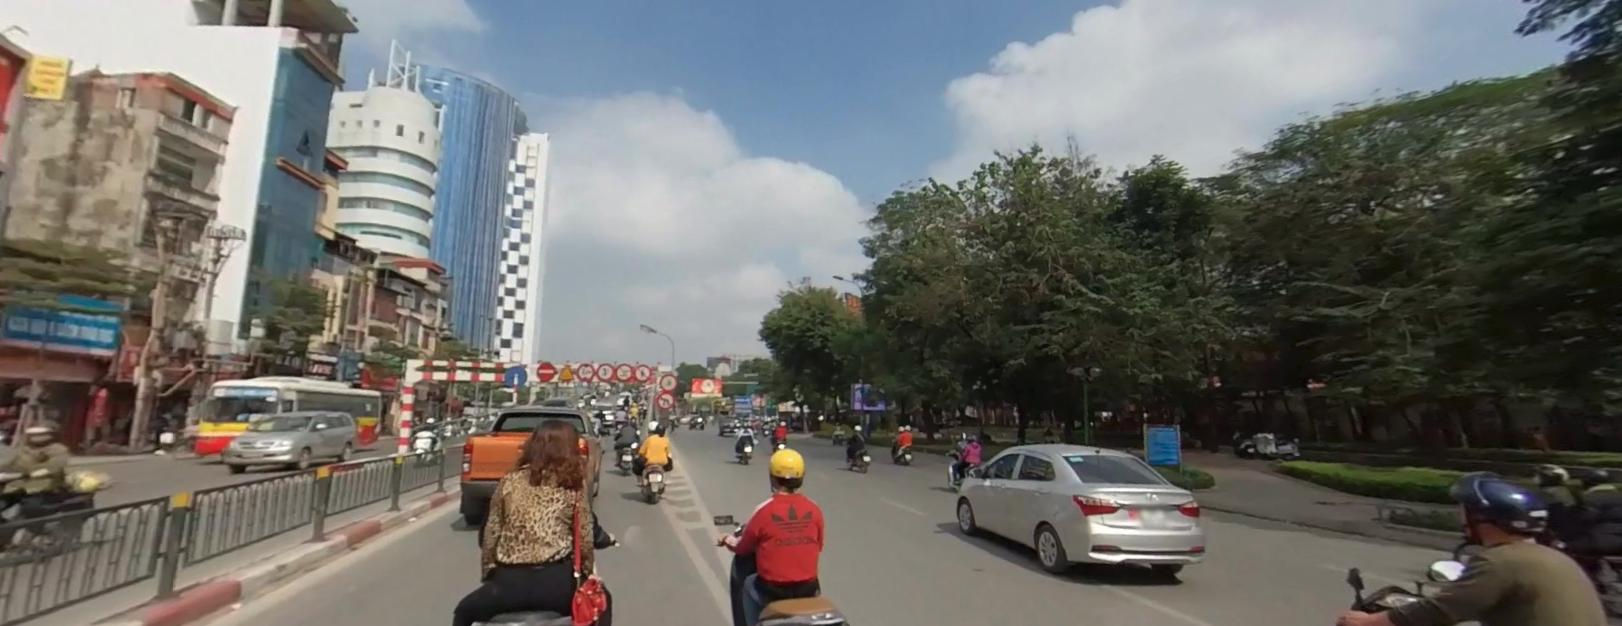Cam con lai: (577, 361, 594, 379), (597, 362, 614, 379), (615, 362, 631, 380), (659, 371, 674, 389), (634, 362, 649, 379)
Cam nguoc chieu: (534, 359, 557, 383)
Cam re: (656, 392, 673, 407)
Nguy hiem: (558, 361, 572, 381)
